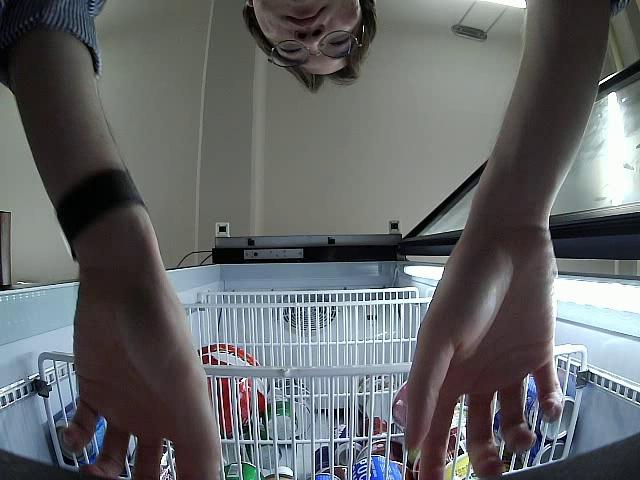00_hand: (403, 230, 564, 480), (61, 282, 222, 480)
